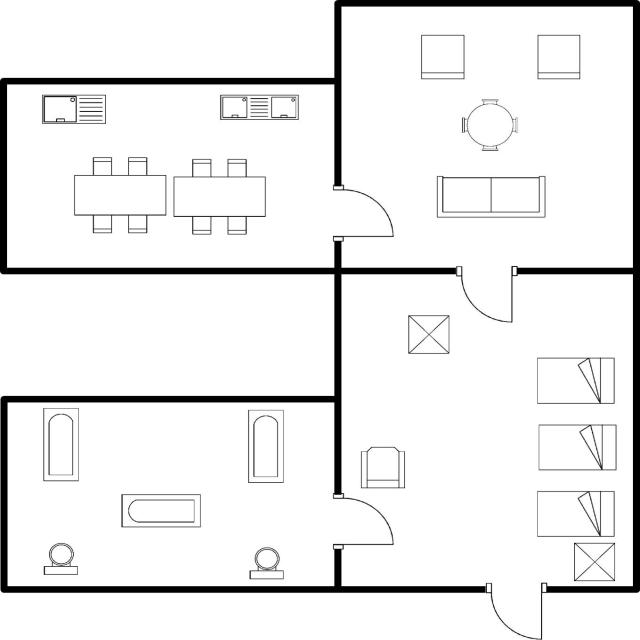armchair: (353, 440, 411, 494)
bed: (530, 487, 621, 541), (532, 418, 619, 474), (532, 353, 618, 409)
coffee_table: (404, 310, 455, 358), (568, 539, 619, 583)
dining_table: (171, 153, 270, 242), (68, 152, 169, 235)
large_sink: (36, 539, 87, 583), (241, 542, 289, 584)
large_sofa: (431, 170, 551, 222)
round_table: (458, 94, 522, 156)
sink: (37, 90, 110, 130)
small_sofa: (417, 29, 469, 84), (533, 31, 585, 84)
tub: (114, 489, 205, 533), (242, 405, 287, 489), (39, 403, 83, 488)
twin_sink: (213, 90, 303, 125)
